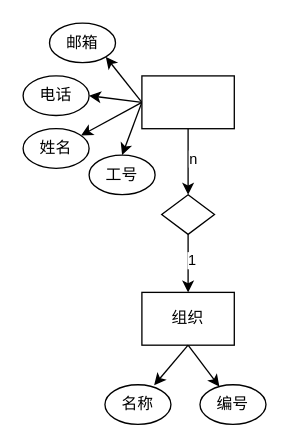
The diagram is 289 pixels wide and 447 high, and some of its shapes have lost their labels. Here are the shapes that lost their labels. From the top down, the centre of each, then its label:
the point at 187,102: 人员
the point at 187,213: 归属
